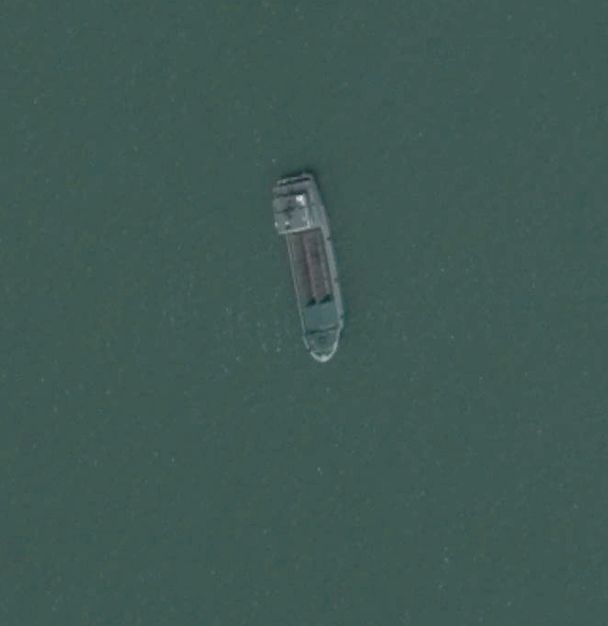boat: (268, 170, 347, 363)
